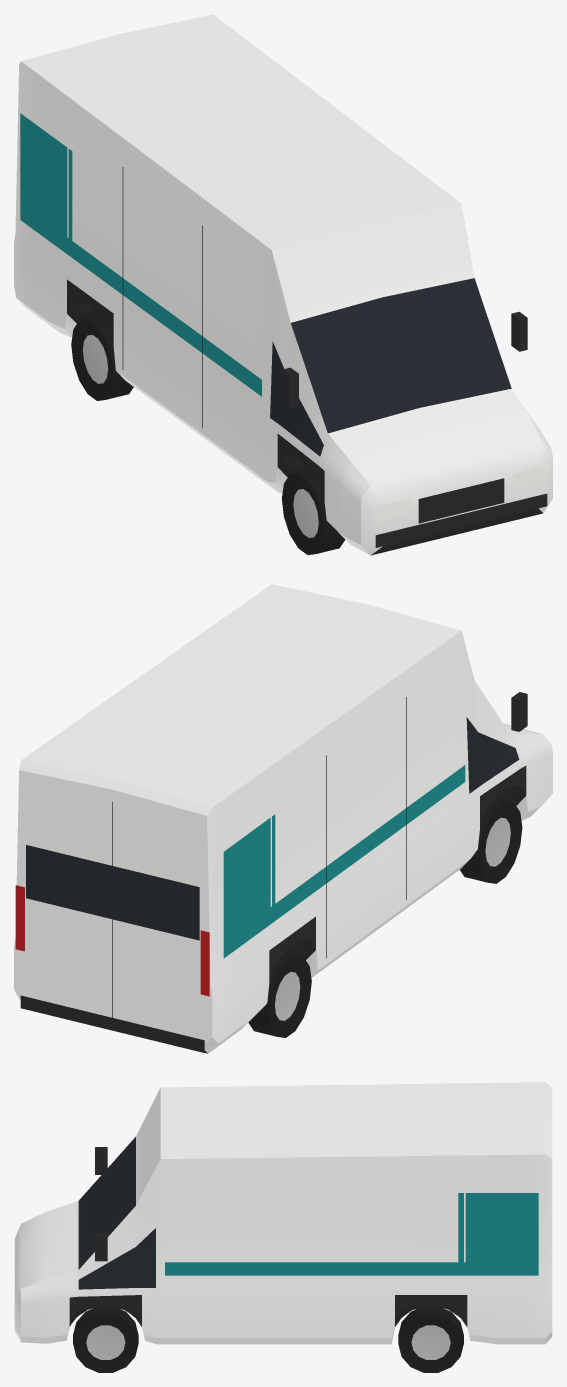
File: nyc_delivery_van.glb
3 views of the same model, one above another, from view 1: azimuth 30°, elevation 25°; view 2: azimuth 150°, elevation 25°; view 3: azimuth 270°, elevation 25° (orthographic). The views are drawn at different scales.
Visible parts, largest first — view 1: nyc_delivery_van; view 2: nyc_delivery_van; view 3: nyc_delivery_van.
Part boxes in pixels (left/top/right/bottom): nyc_delivery_van: left=14, top=14, right=552, bottom=555; nyc_delivery_van: left=14, top=584, right=552, bottom=1053; nyc_delivery_van: left=14, top=1082, right=552, bottom=1372.
Size of the model in its own units: 2.32 by 2.66 by 5.92.
1 material, 1 textured.
